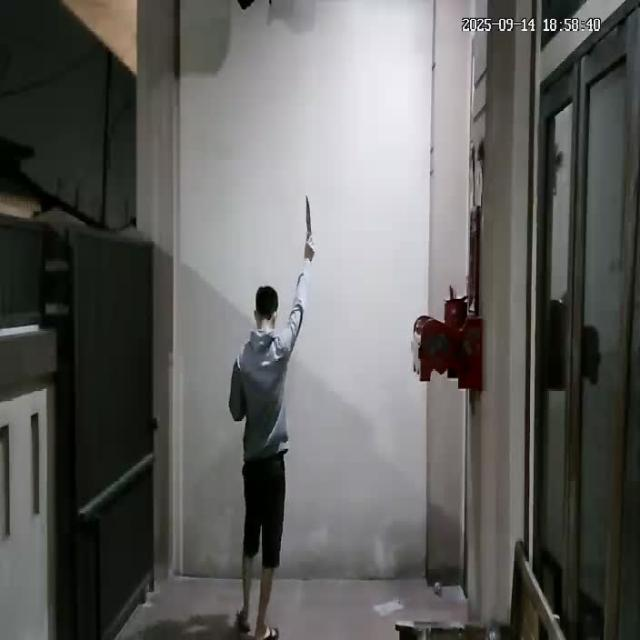senjata_tajam: (302, 192, 315, 240)
